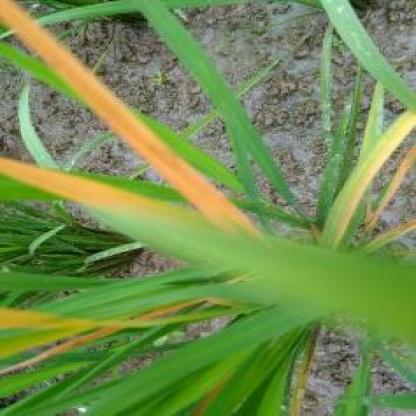Tungro: (1, 1, 266, 233), (1, 156, 215, 219), (324, 113, 416, 252)
